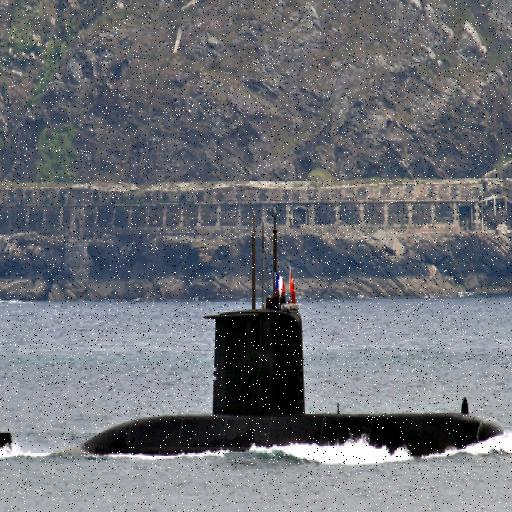submarine: (1, 195, 512, 453)
